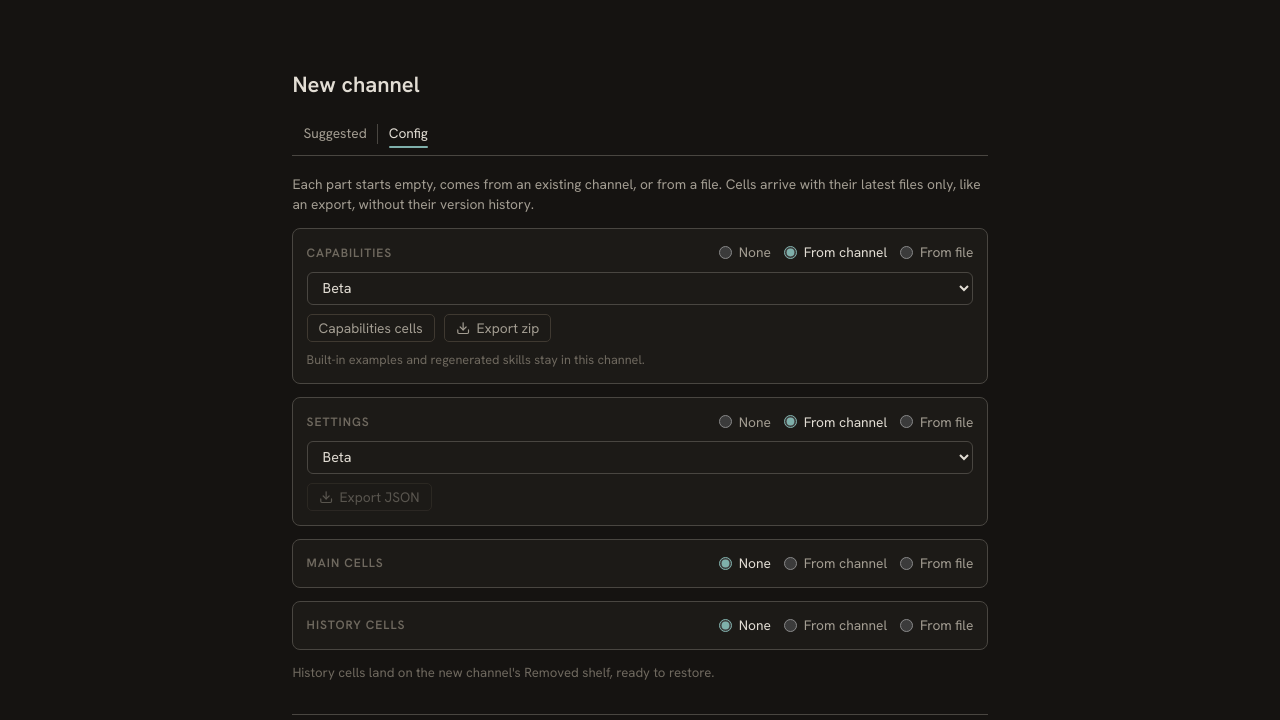
Scenario: New channel: Config › keeps the Config tab's fetches under way across a tab switch
Click the tab "Suggested": x=335, y=134 [292,124,378,144]
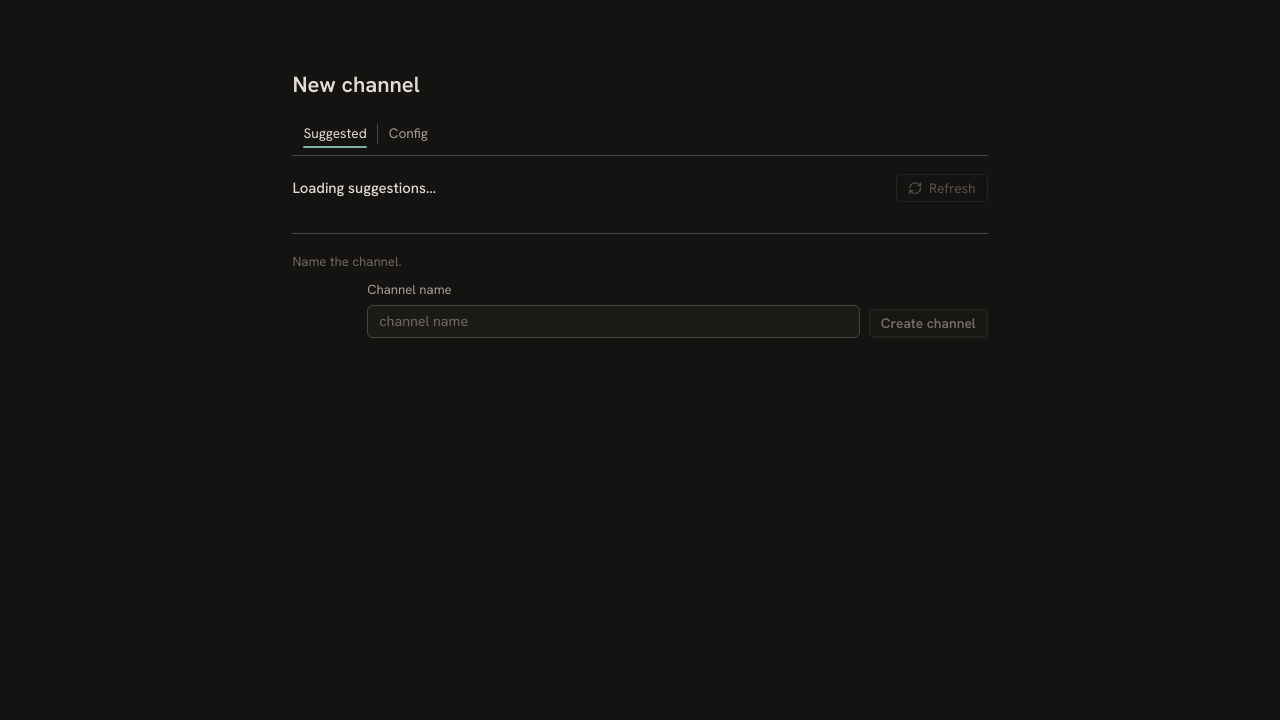
Click the tab "Config": x=408, y=134 [378,124,439,144]
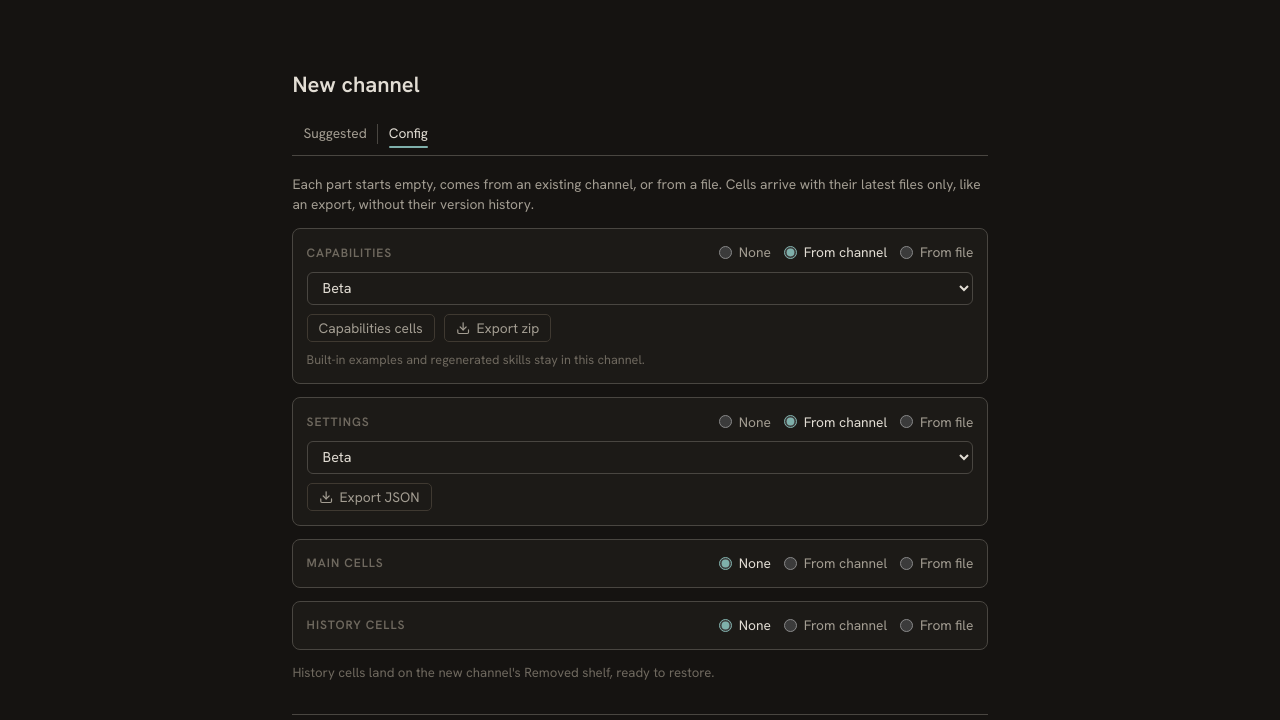
Check: the button "Export JSON" is enabled, box [307,483,432,511]
